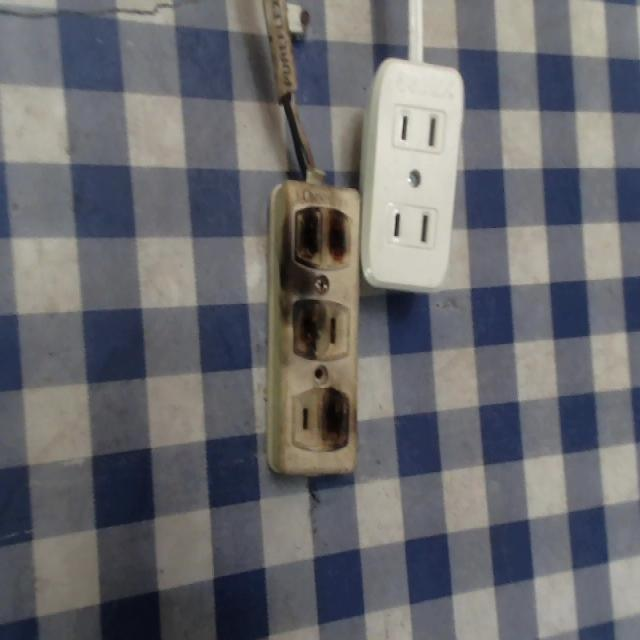-: (285, 200, 352, 271), (290, 295, 328, 365), (316, 380, 350, 452)
